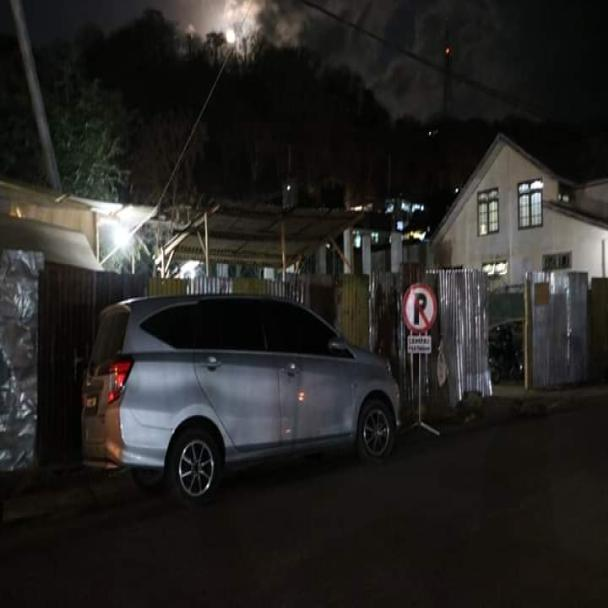Mobil: (80, 293, 402, 495)
